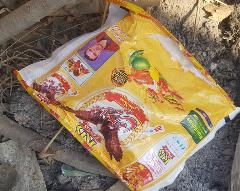general: (13, 0, 239, 190)
